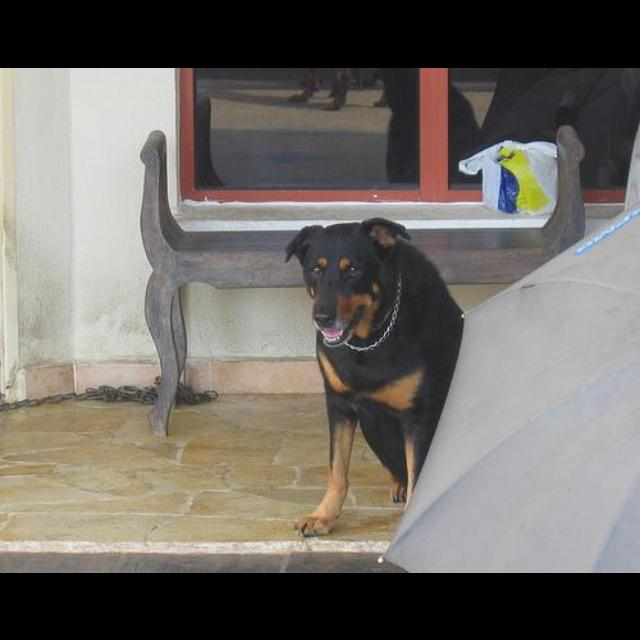rottweiler: (283, 217, 467, 538)
